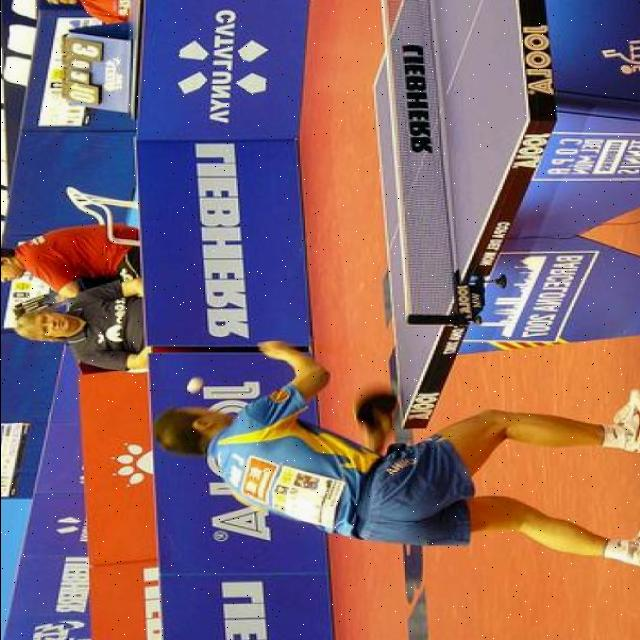ping-pong-ball: (182, 377, 205, 396)
